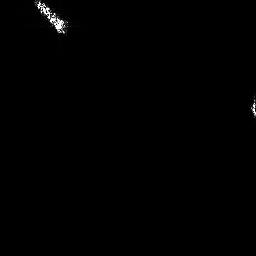ship: (32, 1, 69, 34)
